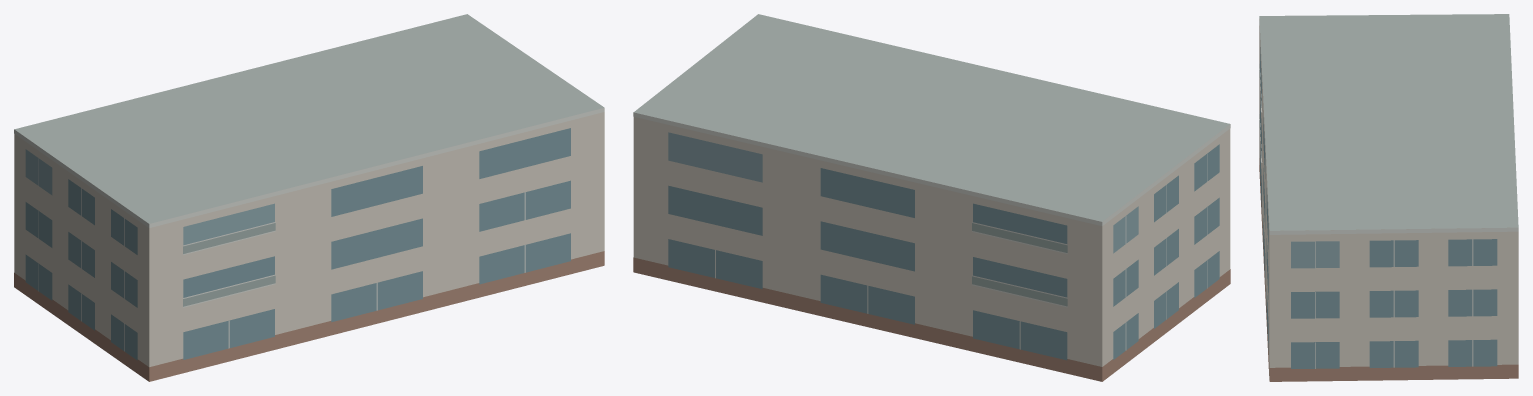
The model's file is survey-upis-32836836.glb.
3 renders of one model, left to right at view 1: azimuth 30°, elevation 25°; view 2: azimuth 150°, elevation 25°; view 3: azimuth 270°, elevation 25°, orthographic. The views are drawn at different scales.
Parts seen in each view (by area): view 1: survey-upis-32836836.tmp; view 2: survey-upis-32836836.tmp; view 3: survey-upis-32836836.tmp.
Part boxes in pixels (x1,y1,x2,y2): survey-upis-32836836.tmp: (14, 14, 604, 381); survey-upis-32836836.tmp: (633, 14, 1230, 381); survey-upis-32836836.tmp: (1259, 14, 1518, 381).
Size of the model in its own units: 28.21 by 9.15 by 14.25.
